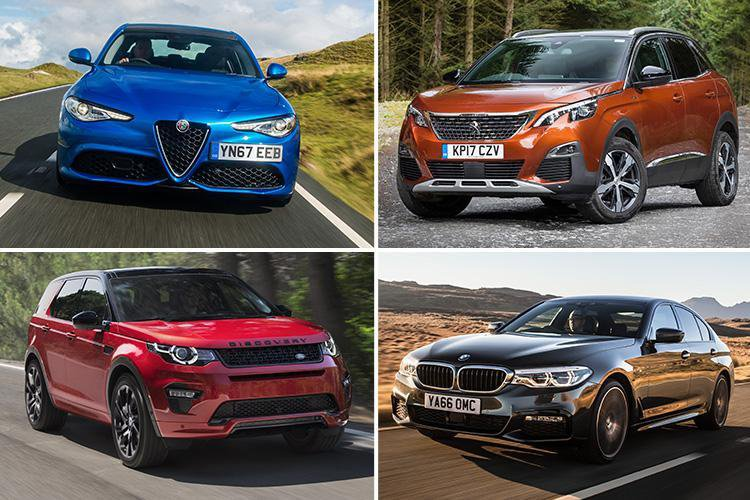car: (393, 26, 740, 218), (25, 264, 354, 458), (395, 293, 736, 452), (57, 17, 300, 208)
